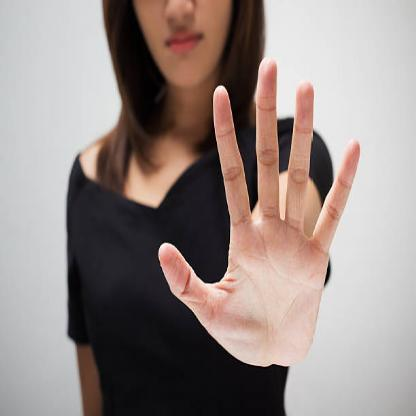stop: (156, 52, 364, 372)
